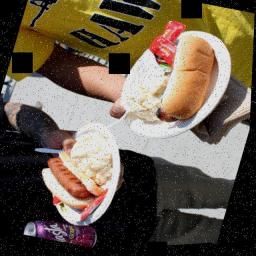hotdog: (147, 32, 224, 129), (32, 146, 109, 214)
